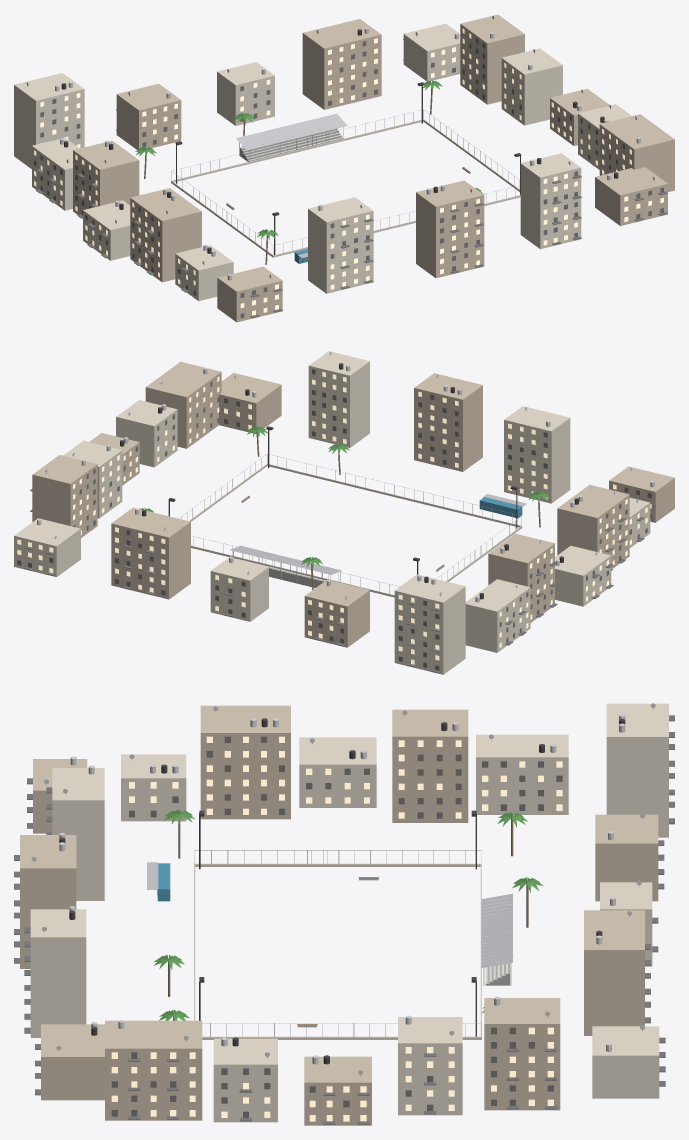
Rendered from SM_Community.fbx.
3 renders of one model, top to bottom at view 1: azimuth 30°, elevation 25°; view 2: azimuth 150°, elevation 25°; view 3: azimuth 270°, elevation 25°, orthographic. The views are drawn at different scales.
Visible parts, largest first — view 1: SM_Community; view 2: SM_Community; view 3: SM_Community.
Part boxes in pixels (bbox=[...]): SM_Community: bbox=[14, 14, 674, 322]; SM_Community: bbox=[14, 351, 674, 674]; SM_Community: bbox=[14, 703, 674, 1125].
Size of the model in its own units: 162 by 23.12 by 129.
